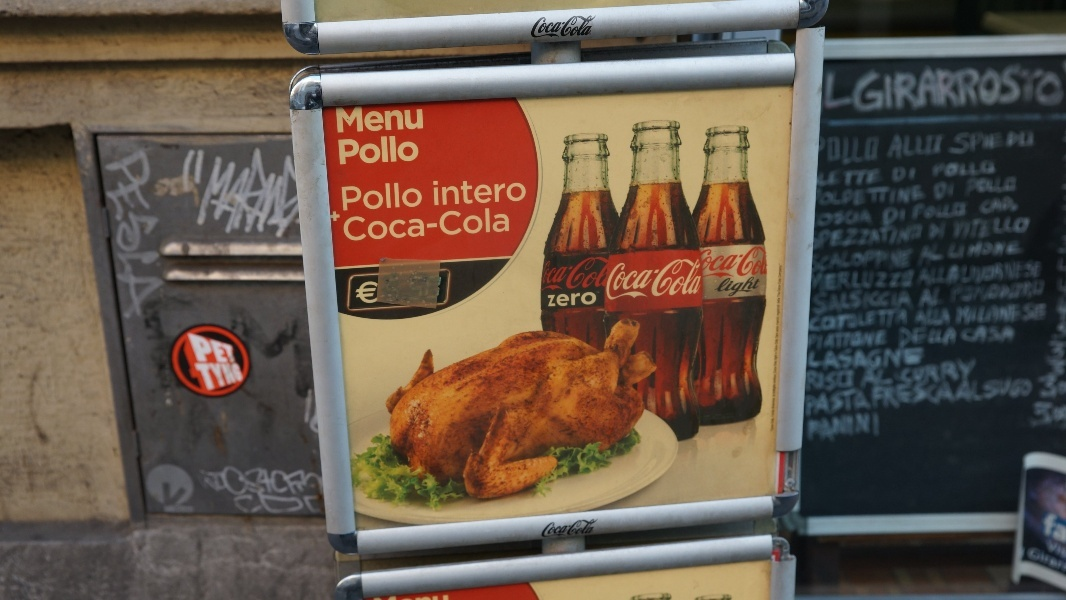text: (113, 146, 128, 329), (129, 146, 144, 329), (145, 146, 160, 329), (101, 146, 112, 329), (193, 147, 208, 243), (209, 147, 224, 243), (225, 147, 240, 243), (241, 147, 256, 243), (257, 147, 272, 243), (273, 147, 288, 243), (289, 147, 303, 243), (161, 146, 168, 329), (184, 147, 192, 243), (833, 63, 848, 113), (849, 63, 864, 113), (865, 63, 880, 113), (881, 63, 896, 113), (897, 63, 912, 113), (913, 63, 928, 113), (929, 63, 944, 113), (945, 63, 960, 113), (961, 63, 976, 113), (977, 63, 992, 113), (993, 63, 1008, 113), (1009, 63, 1024, 113), (1025, 63, 1040, 113), (1041, 63, 1056, 113), (625, 257, 640, 301), (641, 257, 656, 301), (657, 257, 672, 301), (673, 257, 688, 301), (689, 257, 702, 301), (545, 256, 560, 293), (561, 256, 576, 293), (577, 256, 592, 293), (961, 356, 977, 389), (353, 208, 368, 243), (369, 208, 384, 243), (385, 208, 400, 243), (401, 208, 416, 243), (417, 208, 432, 243), (433, 208, 448, 243), (449, 208, 464, 243), (465, 208, 480, 243), (481, 208, 496, 243), (705, 246, 720, 280), (721, 246, 736, 280), (737, 246, 752, 280), (881, 376, 896, 410), (897, 376, 912, 410), (913, 376, 928, 410), (929, 376, 944, 410), (945, 376, 960, 410), (961, 376, 976, 410), (977, 376, 992, 410), (993, 376, 1008, 410), (1009, 376, 1024, 410), (209, 465, 224, 498), (225, 465, 240, 498), (241, 465, 256, 498), (257, 465, 272, 498), (273, 465, 288, 498), (289, 465, 304, 498), (305, 465, 320, 498), (913, 356, 928, 389), (929, 356, 944, 389), (945, 356, 960, 389), (817, 386, 832, 419), (833, 386, 848, 419), (849, 386, 864, 419), (193, 333, 208, 365), (209, 333, 224, 365), (817, 412, 832, 444), (833, 412, 848, 444), (849, 412, 864, 444), (865, 412, 880, 444), (353, 135, 368, 166), (369, 135, 384, 166), (385, 135, 400, 166), (401, 135, 416, 166), (353, 182, 368, 213), (369, 182, 384, 213), (385, 182, 400, 213), (401, 182, 416, 213), (833, 135, 848, 166), (849, 135, 864, 166), (865, 135, 880, 166), (497, 208, 510, 243), (193, 363, 208, 393), (209, 363, 224, 393), (225, 363, 240, 393), (929, 242, 945, 270), (614, 257, 624, 301), (338, 135, 352, 166), (337, 107, 352, 135), (353, 107, 368, 135), (369, 107, 384, 135), (385, 107, 400, 135), (401, 107, 416, 135), (961, 128, 976, 156), (977, 128, 992, 156), (993, 128, 1008, 156), (1009, 128, 1024, 156), (929, 261, 944, 289), (945, 261, 960, 289), (961, 261, 976, 289), (977, 261, 992, 289), (993, 261, 1008, 289), (1009, 261, 1024, 289), (1025, 261, 1040, 289), (961, 278, 976, 305), (977, 278, 992, 305), (993, 278, 1008, 305), (1009, 278, 1024, 305), (1025, 278, 1040, 305), (1041, 547, 1056, 574), (433, 181, 448, 207), (449, 181, 464, 207), (465, 181, 480, 207), (481, 181, 496, 207), (497, 181, 512, 207), (961, 215, 976, 241), (977, 215, 992, 241), (993, 215, 1008, 241), (1009, 215, 1024, 241), (833, 224, 848, 250), (849, 224, 864, 250), (865, 224, 880, 250), (881, 224, 896, 250), (897, 224, 912, 250), (817, 248, 832, 274), (833, 248, 848, 274), (849, 248, 864, 274), (865, 248, 880, 274), (881, 248, 896, 274), (897, 248, 912, 274), (817, 290, 832, 316), (833, 290, 848, 316), (849, 290, 864, 316), (865, 290, 880, 316), (881, 290, 896, 316), (897, 290, 912, 316), (817, 308, 832, 334), (833, 308, 848, 334), (849, 308, 864, 334), (865, 308, 880, 334), (881, 308, 896, 334), (225, 333, 237, 365), (545, 15, 560, 40), (561, 15, 576, 40), (577, 15, 592, 40), (897, 134, 912, 159), (913, 134, 928, 159), (929, 134, 944, 159), (961, 302, 976, 327), (977, 302, 992, 327), (993, 302, 1008, 327), (1009, 302, 1024, 327), (1025, 302, 1040, 327), (817, 369, 832, 394), (833, 369, 848, 394), (929, 286, 945, 309), (818, 224, 832, 250), (1045, 512, 1056, 545), (817, 269, 832, 293), (833, 269, 848, 293), (849, 269, 864, 293), (865, 269, 880, 293), (881, 269, 896, 293), (897, 269, 912, 293), (929, 306, 944, 330), (817, 347, 832, 371), (833, 347, 848, 371), (849, 347, 864, 371), (865, 347, 880, 371), (881, 347, 896, 371), (897, 347, 912, 371), (833, 184, 848, 207), (849, 184, 864, 207), (865, 184, 880, 207), (881, 184, 896, 207), (897, 184, 912, 207), (913, 184, 928, 207), (977, 176, 992, 199), (993, 176, 1008, 199), (993, 195, 1008, 218), (341, 182, 352, 213), (753, 246, 763, 280), (513, 181, 526, 207), (721, 276, 736, 298), (737, 276, 752, 298), (817, 329, 832, 351), (833, 329, 848, 351), (849, 329, 864, 351), (865, 329, 880, 351), (913, 326, 928, 348), (929, 326, 944, 348), (902, 356, 912, 389), (806, 386, 816, 419), (241, 498, 256, 519), (257, 498, 272, 519), (273, 498, 288, 519), (289, 498, 304, 519), (305, 498, 320, 519), (343, 208, 352, 243), (561, 518, 576, 539), (577, 518, 592, 539), (929, 200, 944, 221), (945, 200, 960, 221), (929, 220, 944, 241), (865, 368, 880, 389), (356, 280, 368, 306), (897, 308, 909, 334), (913, 347, 926, 371), (833, 168, 848, 188), (849, 168, 864, 188), (865, 168, 880, 188), (833, 208, 848, 228), (849, 208, 864, 228), (865, 386, 874, 419), (884, 205, 896, 229), (916, 306, 928, 330), (369, 280, 380, 306), (945, 326, 958, 348), (945, 159, 960, 178), (961, 159, 976, 178), (977, 159, 992, 178), (961, 240, 976, 259), (977, 240, 992, 259), (993, 240, 1008, 259), (1009, 240, 1024, 259), (1025, 128, 1035, 156), (980, 195, 992, 218), (915, 200, 928, 221), (881, 368, 894, 389), (872, 376, 880, 410), (897, 167, 912, 185), (961, 325, 976, 343), (977, 325, 992, 343), (993, 325, 1008, 343), (900, 326, 912, 348), (1057, 512, 1065, 545), (819, 208, 832, 228), (808, 412, 816, 444), (417, 107, 426, 135), (548, 518, 560, 539), (827, 63, 832, 113), (1031, 547, 1040, 574), (1057, 547, 1066, 574), (561, 291, 576, 307), (577, 291, 592, 307), (820, 168, 832, 188), (897, 205, 907, 229), (1025, 376, 1032, 410), (913, 224, 922, 250), (201, 465, 208, 498), (822, 184, 832, 207), (1009, 195, 1019, 218), (807, 369, 816, 394), (185, 333, 192, 365), (593, 256, 599, 293), (865, 208, 876, 228), (952, 278, 960, 305), (547, 291, 560, 307), (934, 181, 944, 201), (945, 181, 955, 201), (417, 182, 423, 213), (826, 135, 832, 166), (968, 176, 976, 199), (1009, 176, 1017, 199), (753, 276, 761, 298), (537, 15, 544, 40), (935, 159, 944, 178), (1047, 540, 1056, 559), (232, 498, 240, 519), (922, 261, 928, 289), (945, 306, 952, 330), (809, 347, 816, 371), (321, 465, 326, 498), (1009, 325, 1018, 343), (1025, 215, 1031, 241), (881, 329, 888, 351), (952, 240, 960, 259), (1057, 540, 1065, 559), (1057, 63, 1060, 113), (1041, 302, 1047, 327), (849, 369, 855, 394), (955, 128, 960, 156), (923, 242, 928, 270), (955, 215, 960, 241), (593, 518, 599, 539), (961, 200, 967, 221), (993, 159, 999, 178), (811, 329, 816, 351), (1041, 278, 1045, 305), (701, 246, 704, 280), (593, 15, 597, 40), (417, 135, 420, 166), (924, 286, 928, 309), (241, 363, 244, 393), (321, 498, 325, 519), (1041, 261, 1044, 289), (813, 308, 816, 334), (957, 302, 960, 327), (813, 269, 816, 293), (593, 291, 597, 307), (881, 168, 884, 188), (893, 167, 896, 185), (913, 167, 916, 185), (814, 290, 816, 316), (913, 290, 915, 316), (913, 269, 915, 293), (945, 220, 947, 241), (335, 107, 336, 135), (815, 248, 816, 274), (913, 248, 914, 274), (945, 134, 946, 159), (1025, 240, 1026, 259)
